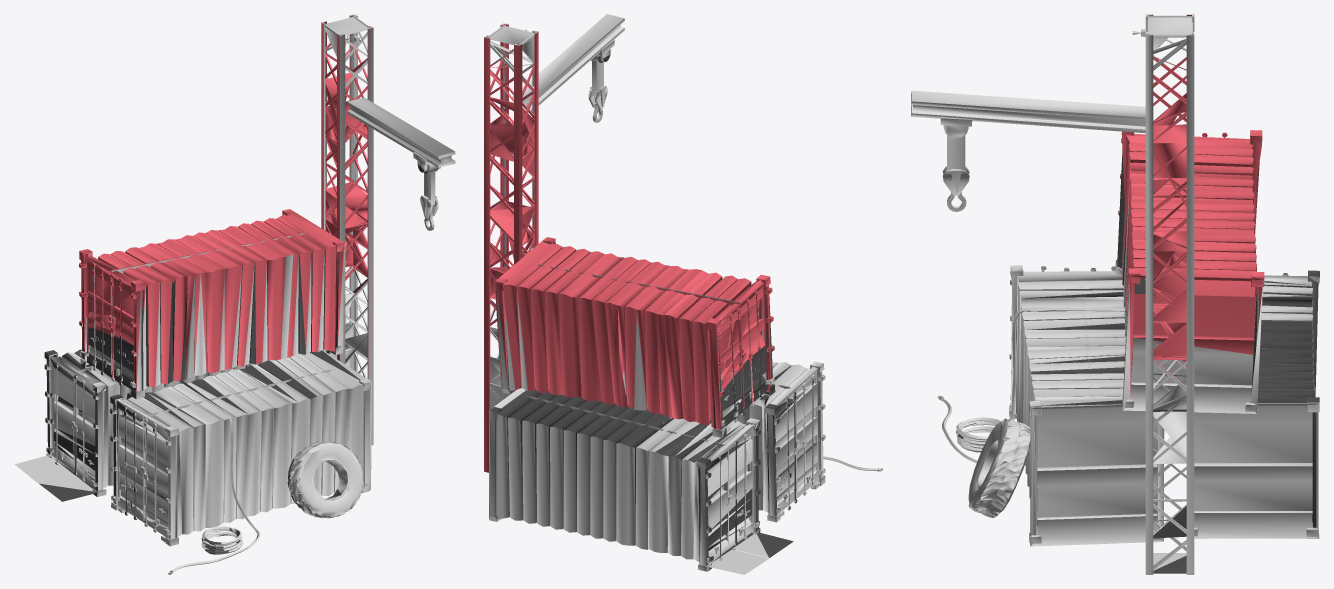
File: Containers.glb
The picture shows the model from 3 angles, left to right: view 1: azimuth 30°, elevation 25°; view 2: azimuth 150°, elevation 25°; view 3: azimuth 270°, elevation 25°; orthographic projection. The views are drawn at different scales.
Parts seen in each view (by area): view 1: Containers; view 2: Containers; view 3: Containers.
Boxes of the visible parts, box(x1,y1,x2,y2) form: Containers: box(15, 14, 455, 574); Containers: box(484, 14, 882, 574); Containers: box(911, 14, 1319, 574).
Bounding box in the file's own units: 6.03 × 8.2 × 5.59.
